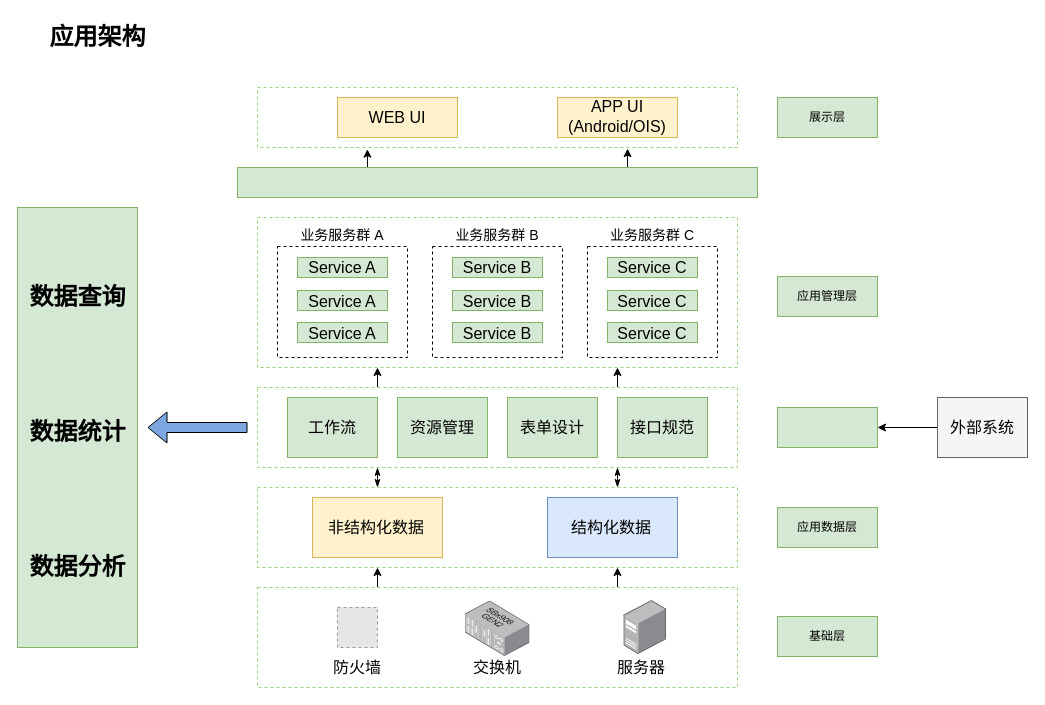
Some shapes in this 1045 by 705 pixel diagram are drawn without their labels. Grey dashed boxes stand in for pictures. The box of each missing label's shape, as (x1, y1, x2, y2) in pixels:
应用支持层: (776, 406, 878, 448)
负载均衡: (236, 166, 758, 198)
